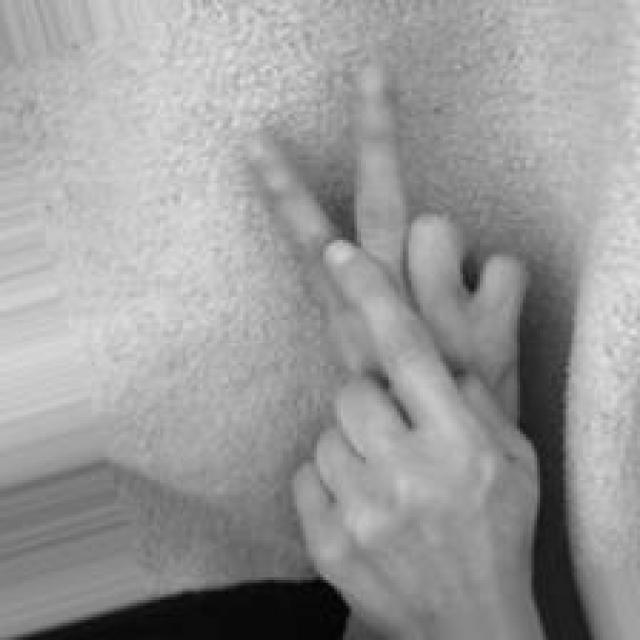Y: (231, 54, 543, 640)
